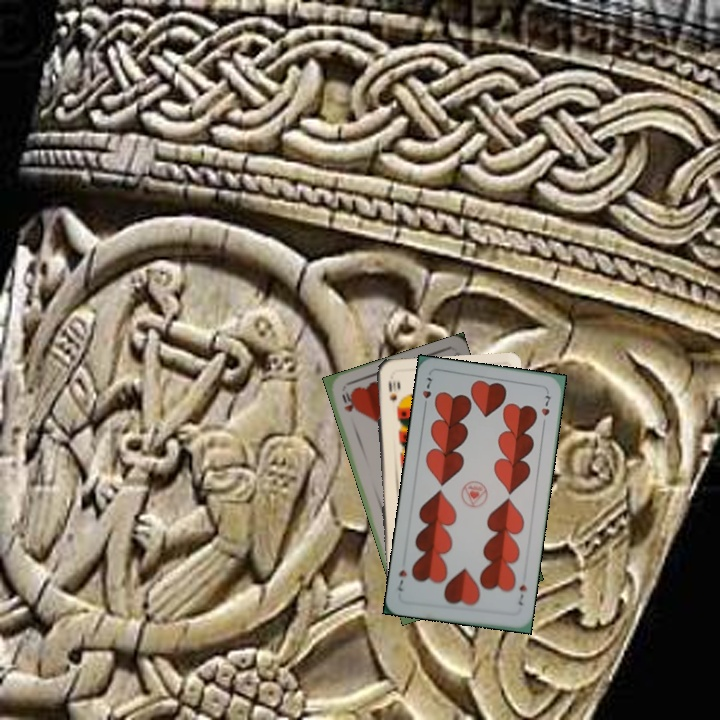H7: (418, 373, 435, 412), (514, 581, 529, 608)
HO: (338, 387, 356, 414)
S10: (384, 376, 398, 405)
